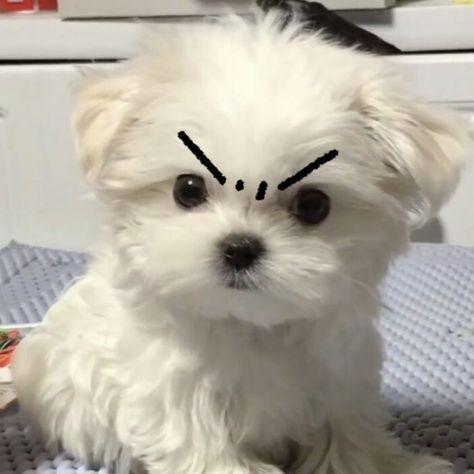puppy-dog: (10, 11, 474, 474)
